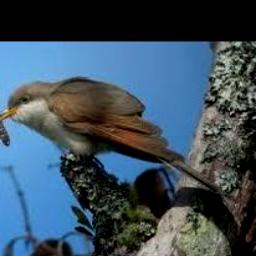Cuckoo: (0, 77, 222, 196)
